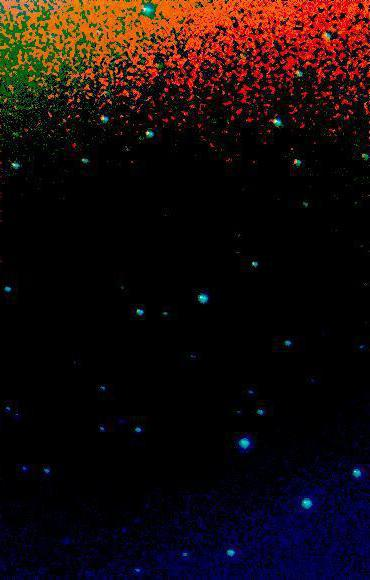star: (0, 69, 28, 99)
